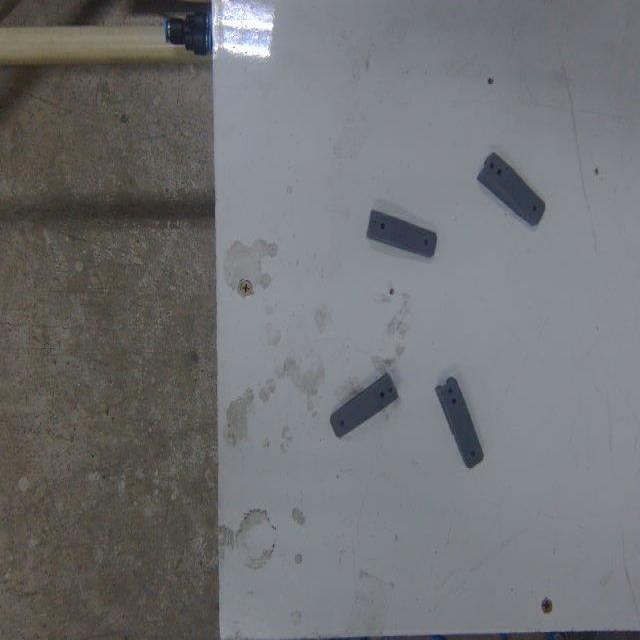grey: (477, 149, 548, 227), (327, 371, 400, 442), (436, 372, 486, 470), (363, 208, 440, 264)
head: (337, 414, 348, 432), (465, 446, 477, 462), (421, 235, 432, 252), (529, 202, 540, 216)
